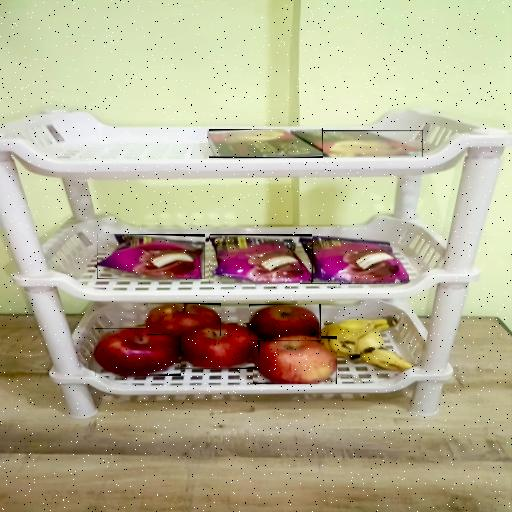Apple: (254, 336, 336, 384), (95, 329, 180, 375), (180, 323, 259, 369), (250, 304, 320, 340), (147, 304, 221, 335)
Choco Fills: (292, 131, 422, 157), (209, 129, 323, 157)
Choco Pie: (300, 236, 409, 284), (97, 234, 205, 279), (210, 235, 311, 283)
